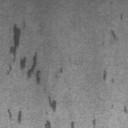red iron: (6, 24, 41, 83), (45, 96, 96, 128), (112, 13, 123, 40), (8, 109, 22, 123), (103, 70, 106, 80), (124, 106, 126, 112), (60, 68, 62, 73)
